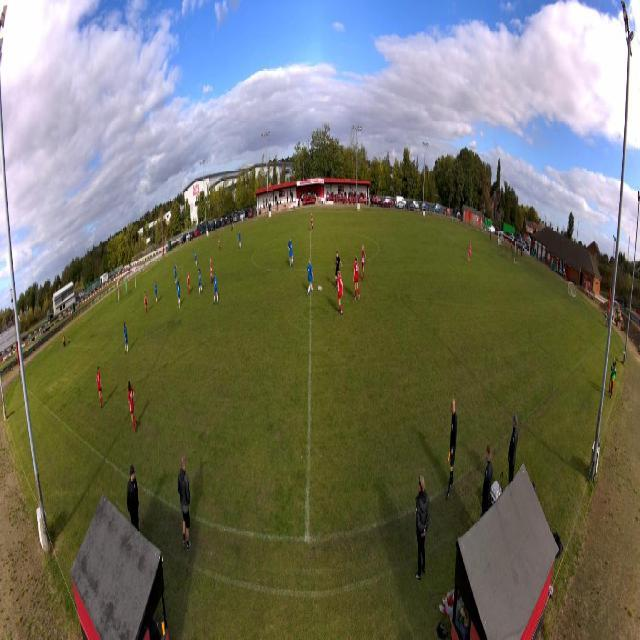ball: (318, 284, 323, 293)
player: (126, 381, 140, 430), (336, 271, 345, 316), (95, 366, 103, 411), (307, 257, 314, 298), (335, 249, 342, 289), (354, 256, 360, 302), (361, 246, 367, 283), (287, 238, 294, 269), (212, 271, 218, 307), (123, 322, 129, 354), (198, 269, 203, 298), (144, 289, 149, 315), (177, 280, 181, 310), (187, 270, 191, 297), (154, 279, 158, 305), (209, 258, 213, 284), (468, 241, 472, 265), (174, 263, 178, 284), (125, 280, 129, 297), (311, 212, 314, 232), (239, 230, 242, 249), (194, 250, 197, 267), (218, 234, 220, 251)
